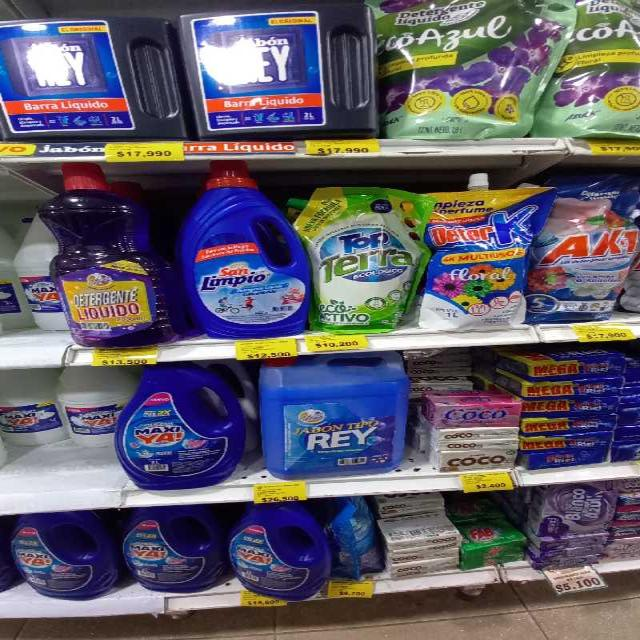Jabon_rey: (173, 1, 383, 136), (1, 6, 187, 144), (260, 357, 411, 475)
